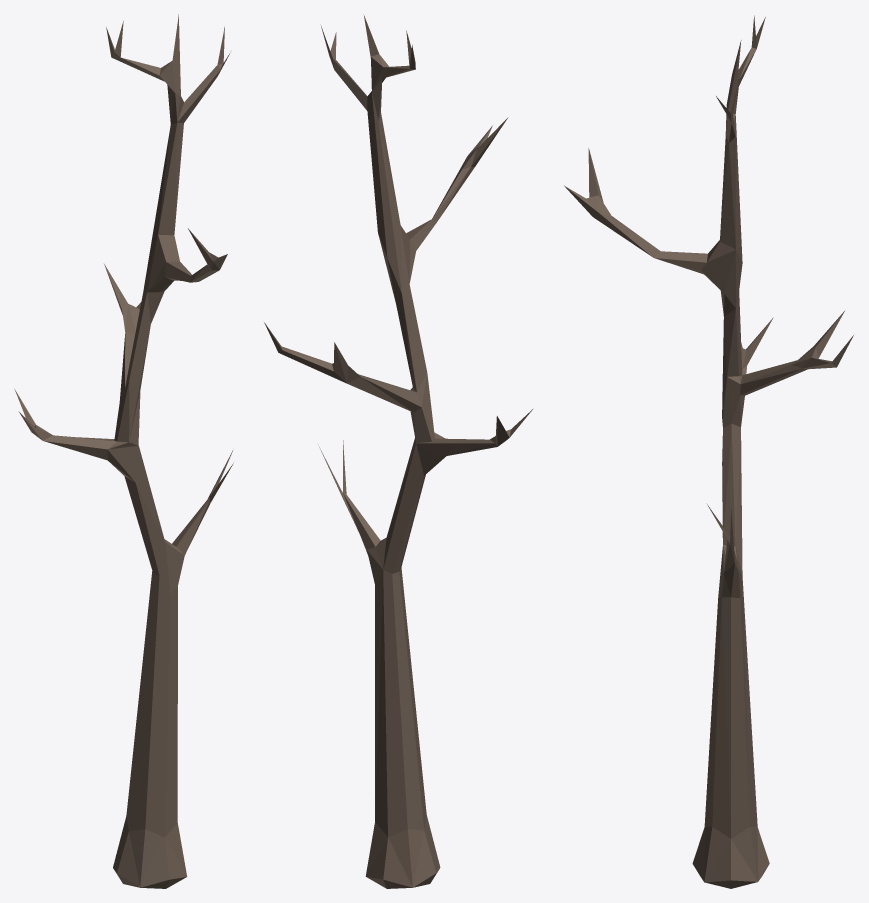
Rendered from Glade_Tree_Tronc1.fbx.
3 views of the same model, side by side, from view 1: azimuth 30°, elevation 25°; view 2: azimuth 150°, elevation 25°; view 3: azimuth 270°, elevation 25° (orthographic).
Parts seen in each view (by area): view 1: Vert.023; view 2: Vert.023; view 3: Vert.023.
Part boxes in pixels (bbox=[...]): Vert.023: bbox=[14, 14, 233, 888]; Vert.023: bbox=[264, 14, 532, 888]; Vert.023: bbox=[564, 15, 853, 888].
Size of the model in its own units: 131 by 498 by 153.
